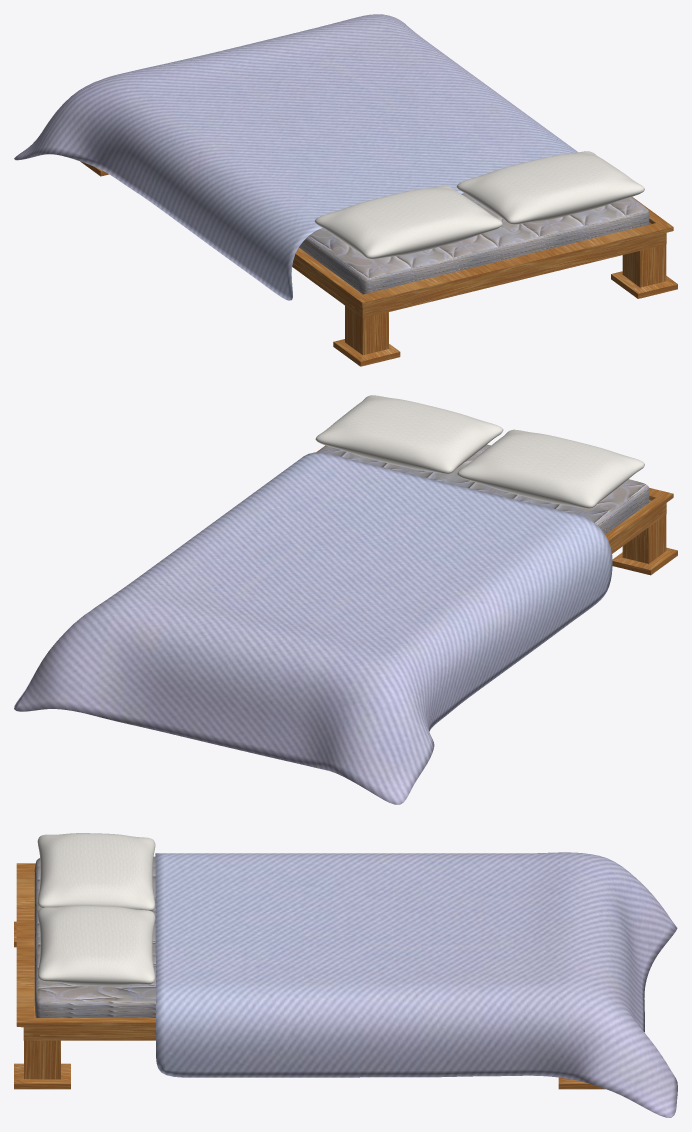
The model's file is bed.fbx.
3 views of the same model, one above another, from view 1: azimuth 30°, elevation 25°; view 2: azimuth 150°, elevation 25°; view 3: azimuth 270°, elevation 25° (orthographic). The views are drawn at different scales.
Visible parts, largest first — view 1: bed_blanket, bed_frame, bed_mattress, bed_pillow_2, bed_pillow_1; view 2: bed_blanket, bed_pillow_2, bed_pillow_1, bed_mattress, bed_frame; view 3: bed_blanket, bed_pillow_1, bed_frame, bed_pillow_2, bed_mattress.
Boxes of the visible parts, x1,y1,x2,y2 form: bed_blanket: (14, 14, 577, 300); bed_frame: (80, 161, 677, 366); bed_mattress: (299, 193, 649, 294); bed_pillow_2: (314, 186, 502, 259); bed_pillow_1: (456, 151, 644, 224); bed_blanket: (14, 452, 612, 804); bed_pillow_2: (457, 429, 644, 508); bed_pillow_1: (315, 395, 503, 473); bed_mattress: (317, 444, 649, 534); bed_frame: (316, 445, 677, 575); bed_blanket: (155, 852, 677, 1117); bed_pillow_1: (37, 905, 155, 986); bed_frame: (14, 863, 605, 1089); bed_pillow_2: (37, 833, 155, 910); bed_mattress: (34, 856, 155, 1017).
Size of the model in its own units: 6.32 by 1.89 by 8.9.
4 materials, 4 textured.
